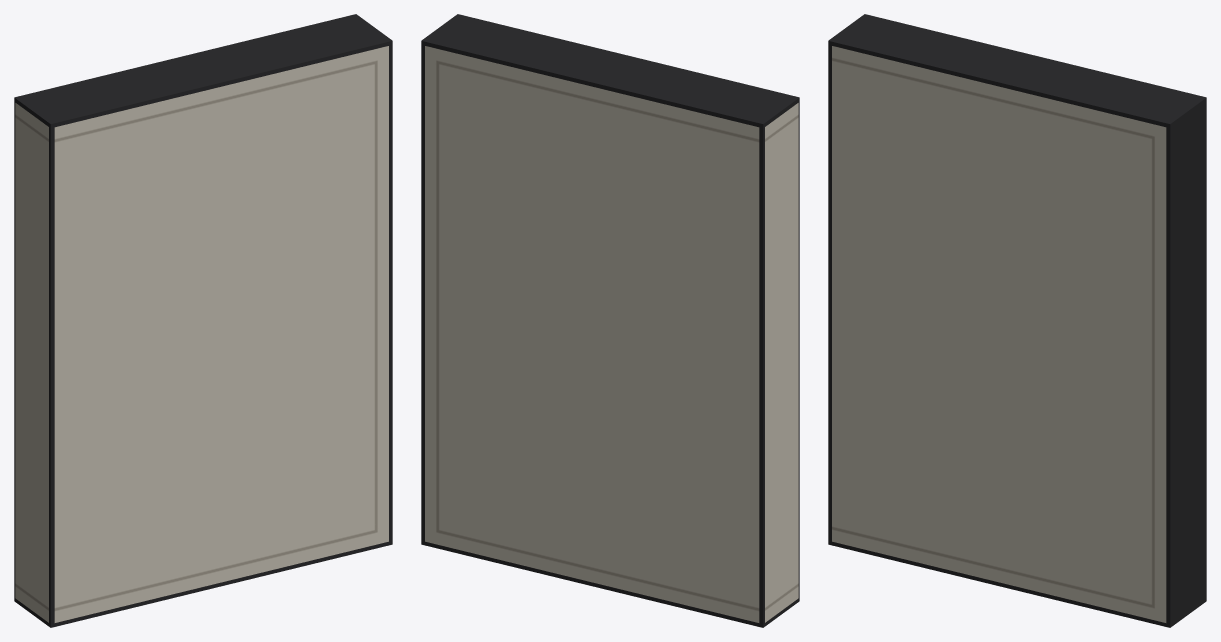
File: clamshell_case.glb
The picture shows the model from 3 angles, left to right: view 1: azimuth 30°, elevation 25°; view 2: azimuth 150°, elevation 25°; view 3: azimuth 330°, elevation 25°; orthographic projection.
Visible parts, largest first — view 1: clamshell_case; view 2: clamshell_case; view 3: clamshell_case.
Boxes of the visible parts, x1,y1,x2,y2 form: clamshell_case: [14, 14, 392, 627]; clamshell_case: [421, 14, 799, 627]; clamshell_case: [828, 14, 1206, 627].
Bounding box in the file's own units: 0.1351 × 0.19 × 0.0252.
Materials: 2 (1 with a texture image).
